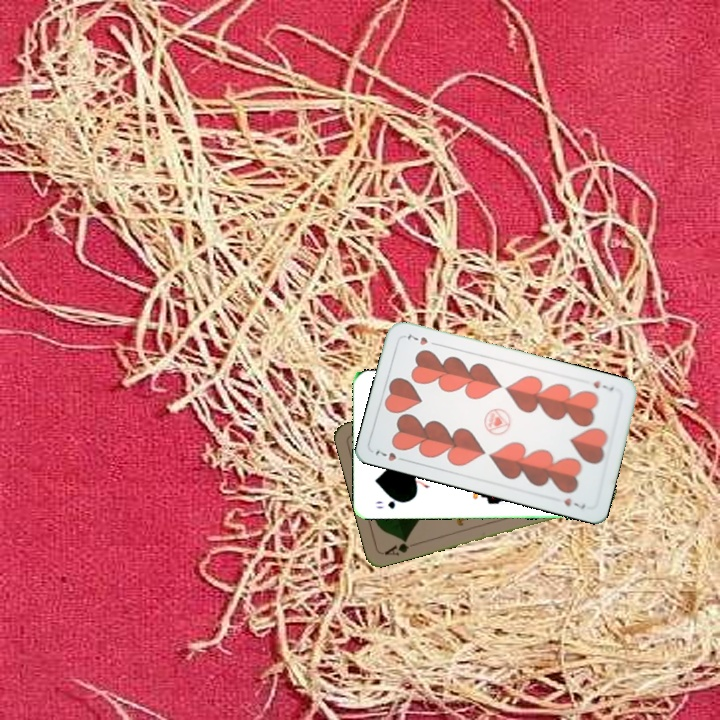GA: (380, 535, 420, 558)
GO: (371, 494, 408, 511)
H7: (371, 446, 410, 464), (589, 377, 616, 394)
